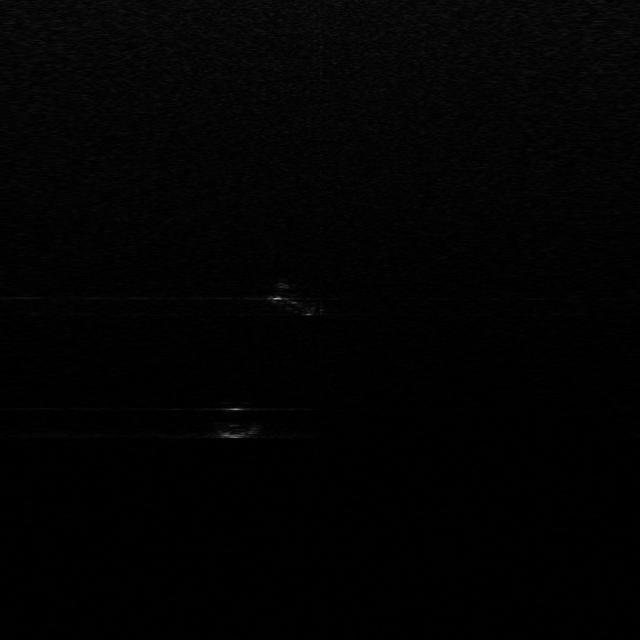ball: (206, 402, 260, 436)
tyre: (270, 282, 320, 316)
